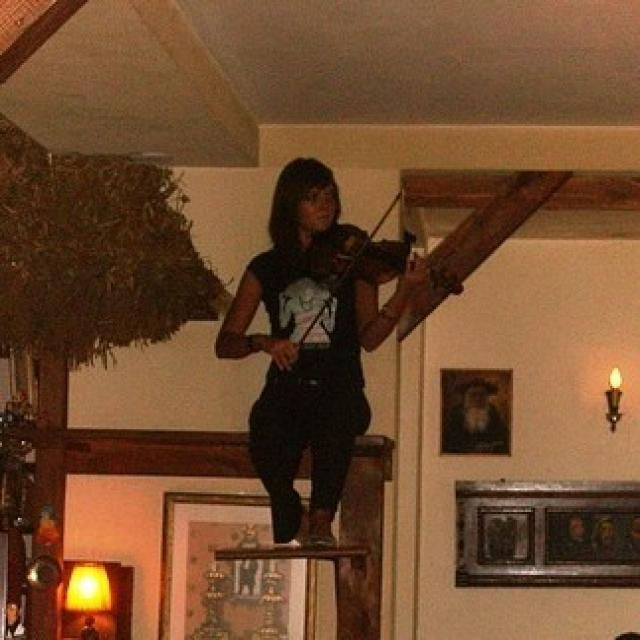violin: (306, 222, 468, 308)
